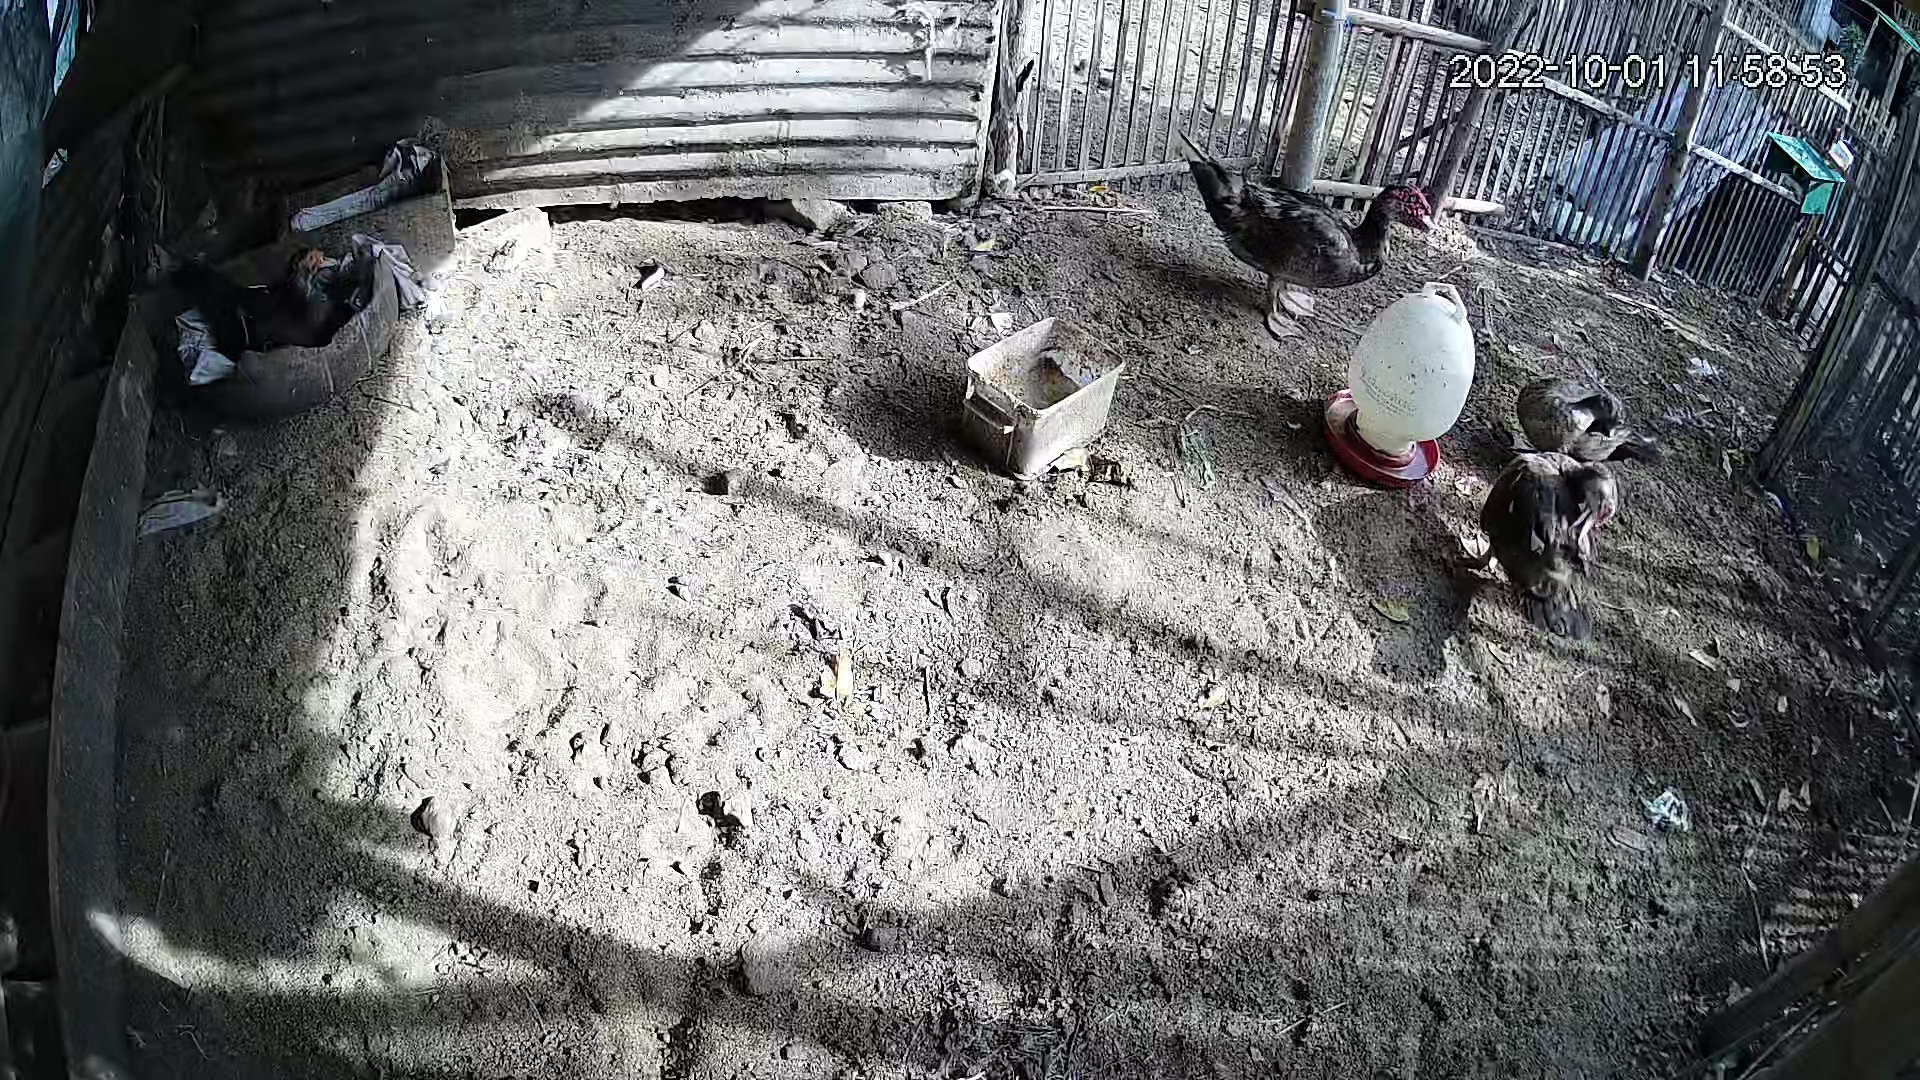Mengeram: (152, 214, 407, 448)
